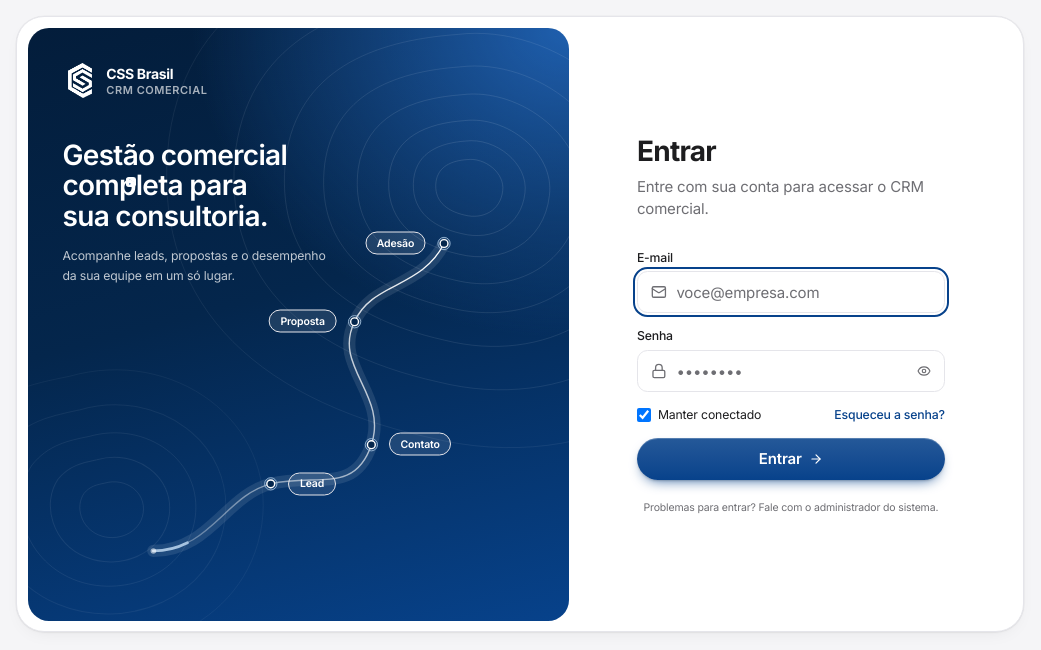
Test case: LoginPage › código colado com espaço vira 6 dígitos; código errado limpa o campo e mostra o erro
Type "ana@empresa.com" into the field labelled "E-mail" at (791, 292), box x1=637 y1=271 x2=945 y2=313
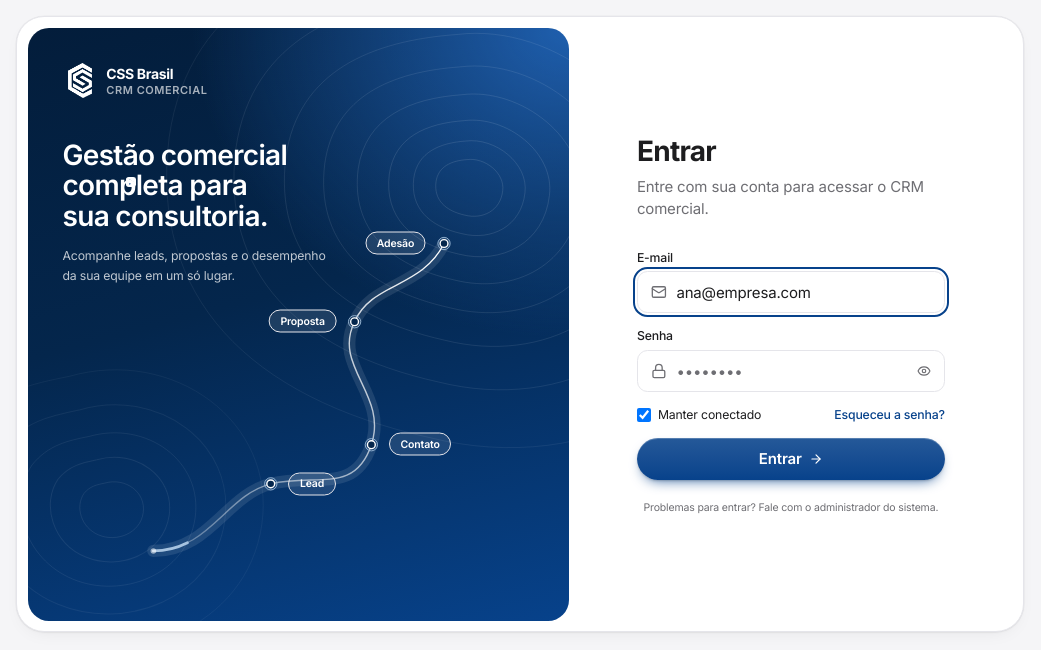
Type "Senha-Forte-1" into the password field labelled "Senha" at (791, 371), box x1=637 y1=350 x2=945 y2=392
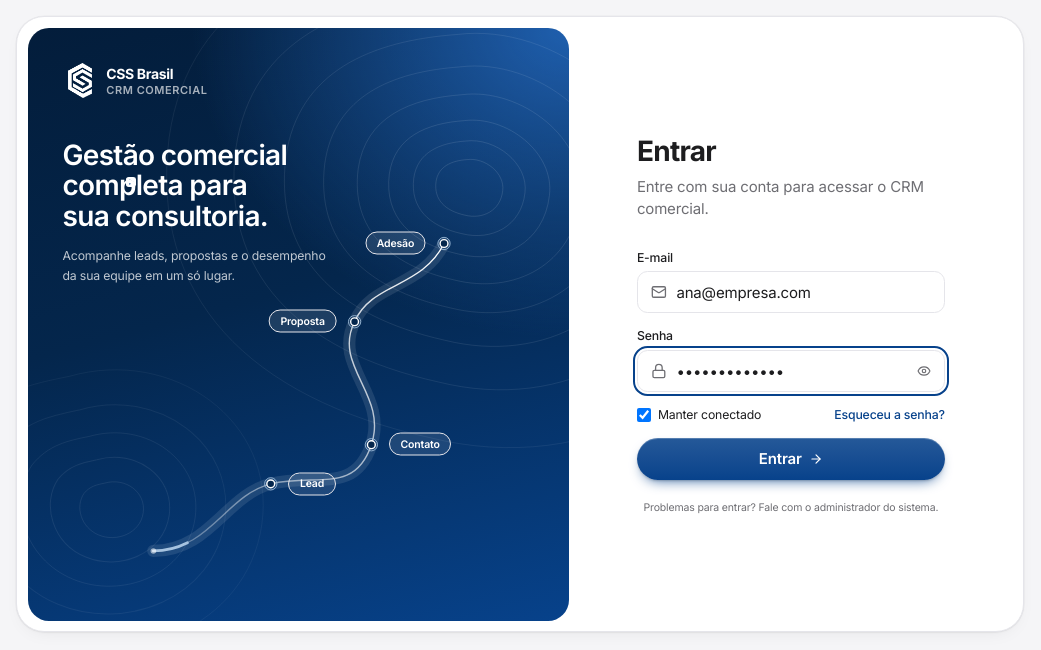
Click the button "Entrar" at (791, 458), box x1=637 y1=438 x2=945 y2=480
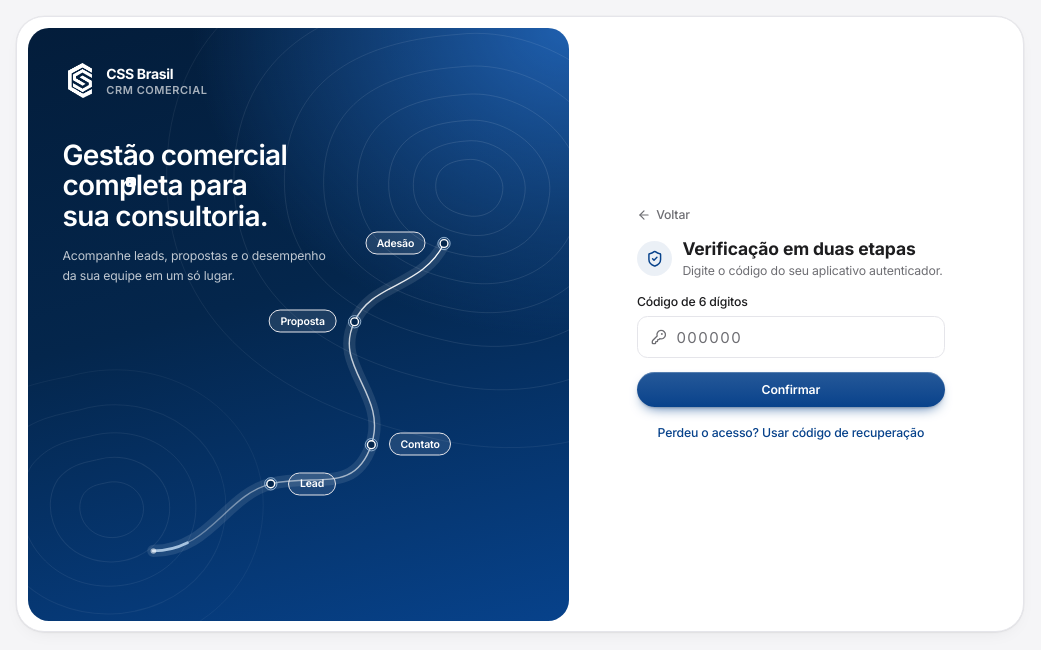
Click the field labelled "Código de 6 dígitos" at (791, 337), box x1=637 y1=316 x2=945 y2=358
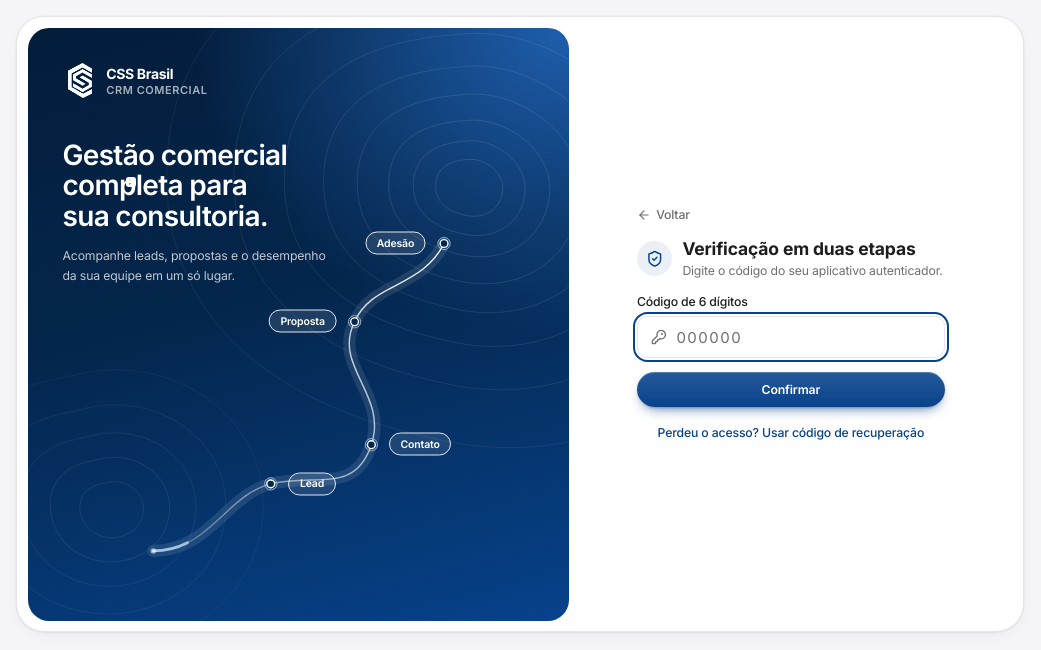
Type keys "123 456"
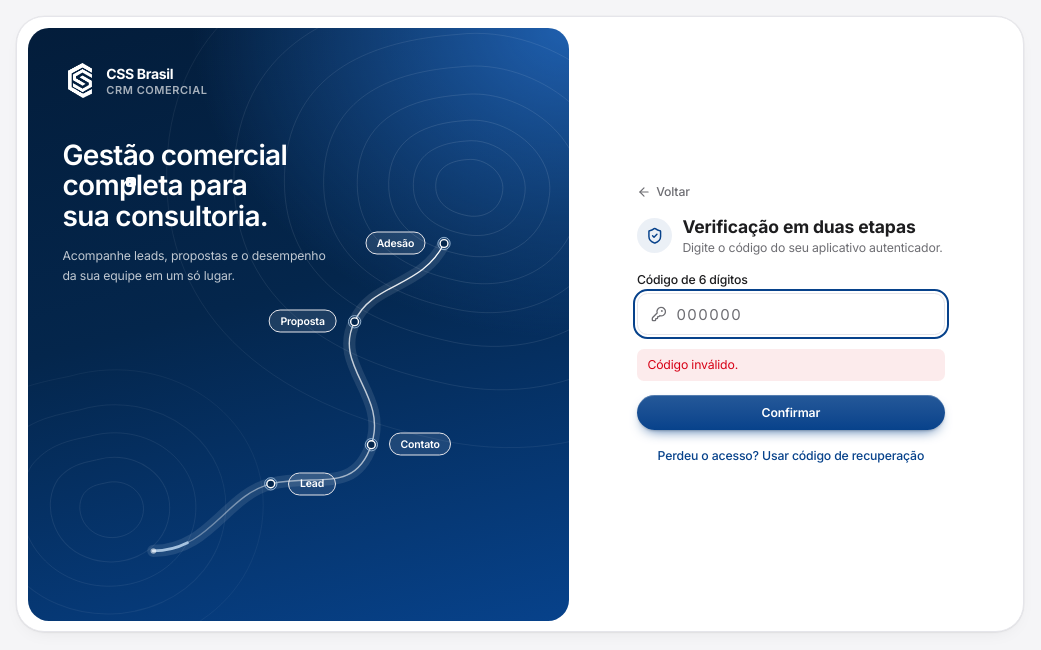
Check: the field labelled "Código de 6 dígitos" is empty, box x1=637 y1=293 x2=945 y2=335
Check: the message reads "Código inválido.", box x1=647 y1=357 x2=738 y2=372
